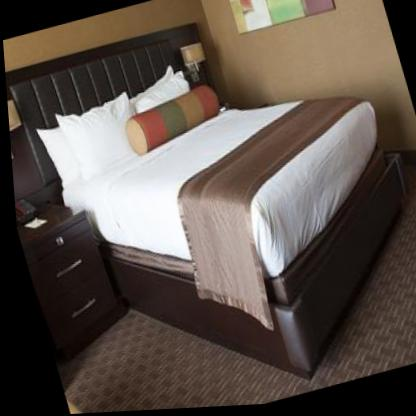Bed: (1, 0, 416, 416)
